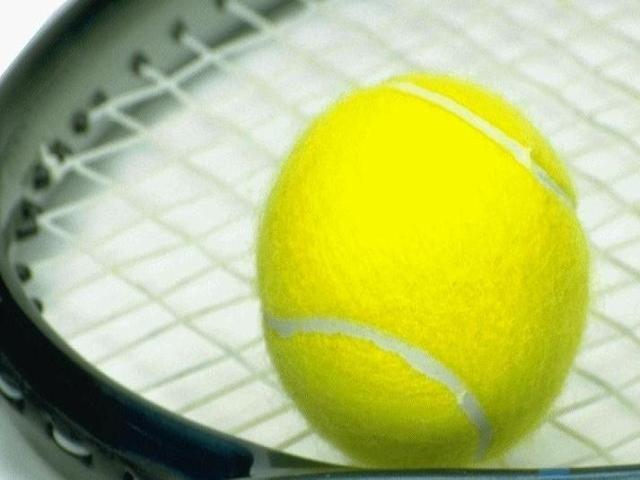tennis-ball: (254, 72, 592, 469)
